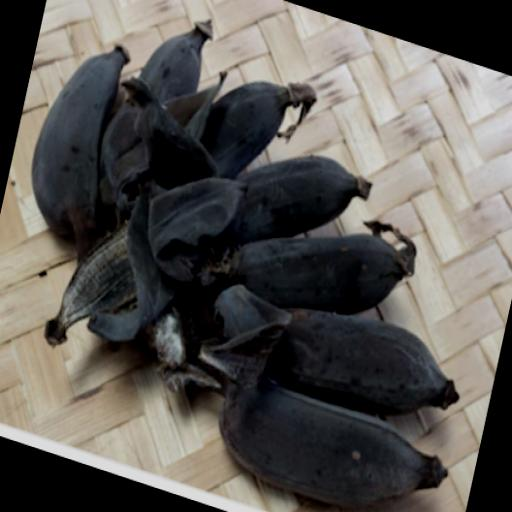banana-overripe: (14, 33, 473, 512)
